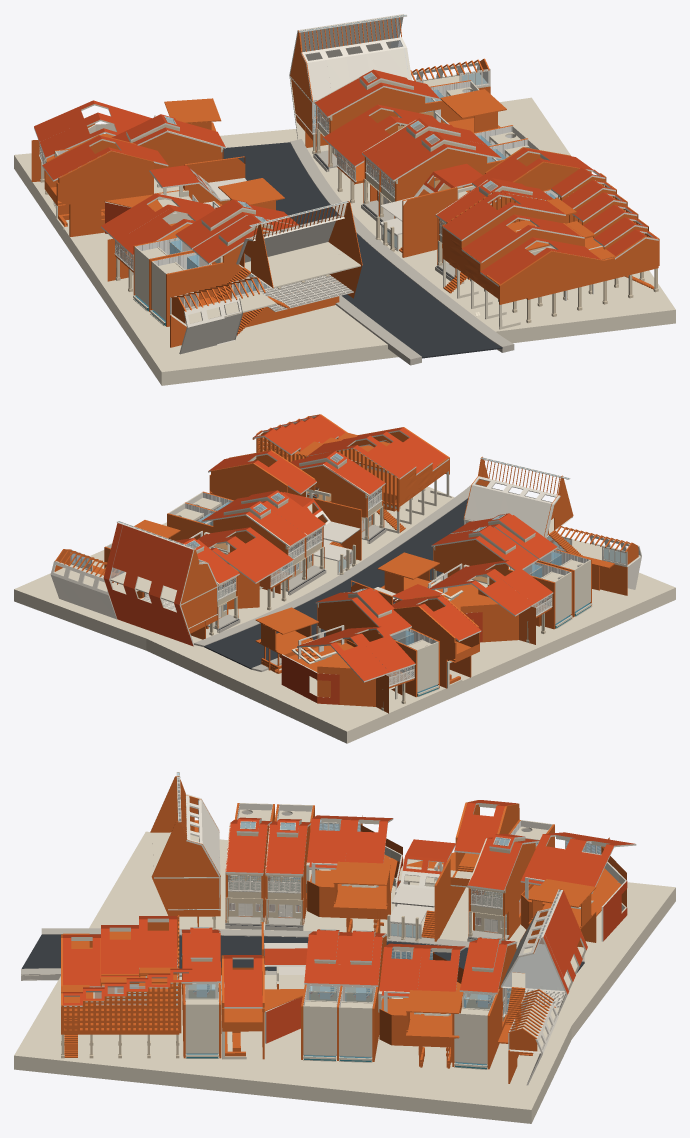
Rendered from y3s1-3rs-heritage-rethought.glb.
3 renders of one model, top to bottom at view 1: azimuth 30°, elevation 25°; view 2: azimuth 150°, elevation 25°; view 3: azimuth 270°, elevation 25°, orthographic. The views are drawn at different scales.
Parts seen in each view (by area): view 1: year 3 sem 1 model updated; view 2: year 3 sem 1 model updated; view 3: year 3 sem 1 model updated.
Boxes of the visible parts, left/top/right/bottom form: year 3 sem 1 model updated: left=14, top=14, right=675, bottom=385; year 3 sem 1 model updated: left=14, top=414, right=675, bottom=743; year 3 sem 1 model updated: left=14, top=772, right=675, bottom=1123.
Bounding box in the file's own units: 9.95 × 2.09 × 10.
